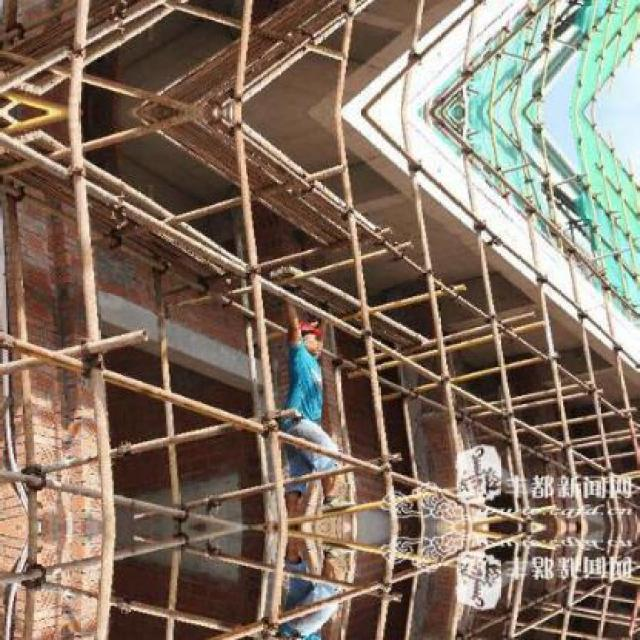hat: (286, 307, 331, 347)
